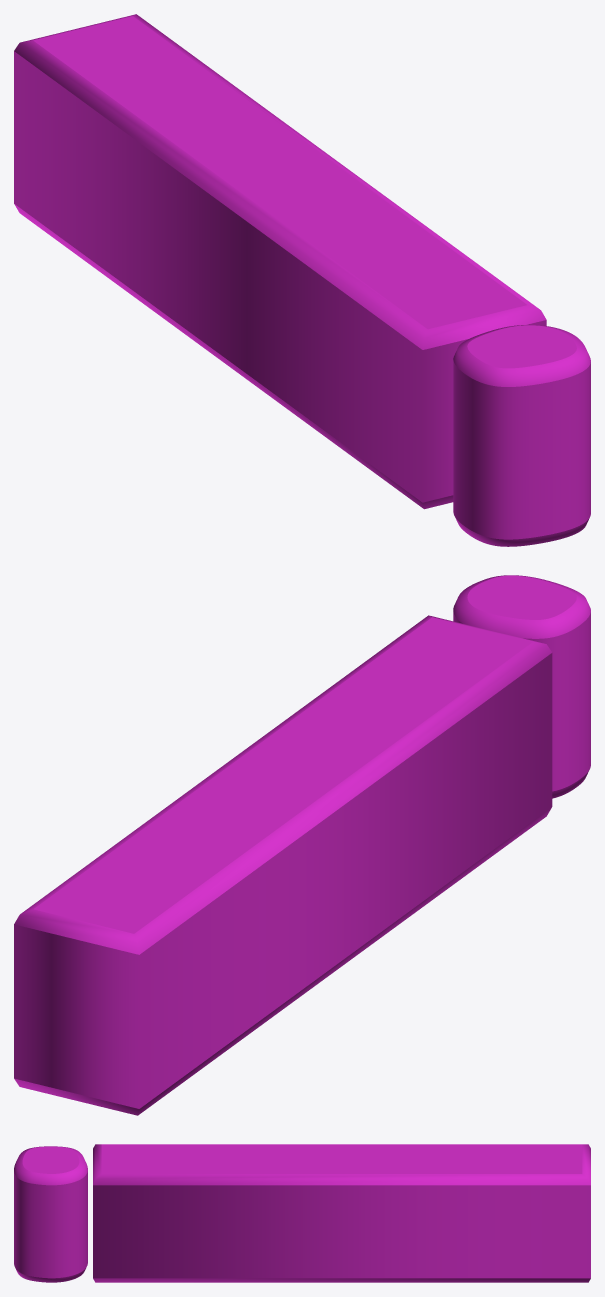
The model's file is Letter_i_CoolFont.fbx.
The picture shows the model from 3 angles, top to bottom: view 1: azimuth 30°, elevation 25°; view 2: azimuth 150°, elevation 25°; view 3: azimuth 270°, elevation 25°; orthographic projection. The views are drawn at different scales.
Visible parts, largest first — view 1: Letter_i; view 2: Letter_i; view 3: Letter_i.
Part boxes in pixels (x1,y1,x2,y2): Letter_i: (14,14,590,546); Letter_i: (14,575,590,1115); Letter_i: (14,1144,590,1282).
Size of the model in its own units: 0.1021 by 0.14 by 0.6752.
